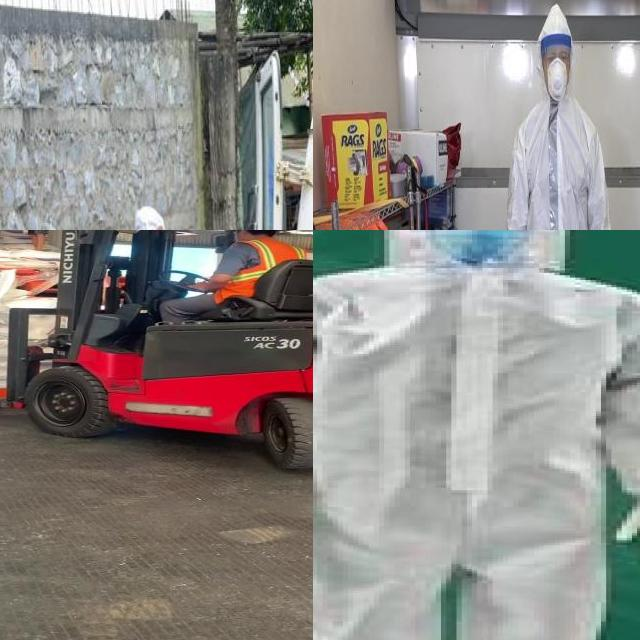Glove: (606, 494, 640, 564)
MASK: (425, 230, 528, 258), (548, 58, 569, 102)
